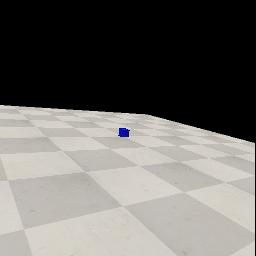box: (118, 128, 130, 137)
